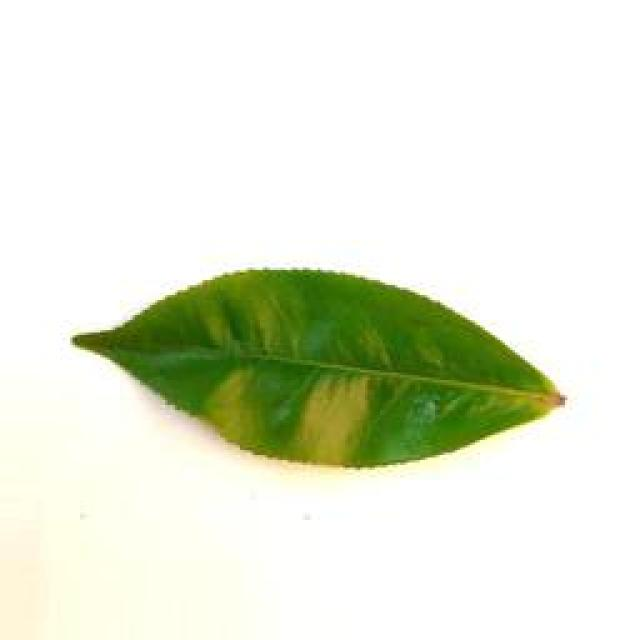Healthy: (60, 264, 582, 477)
